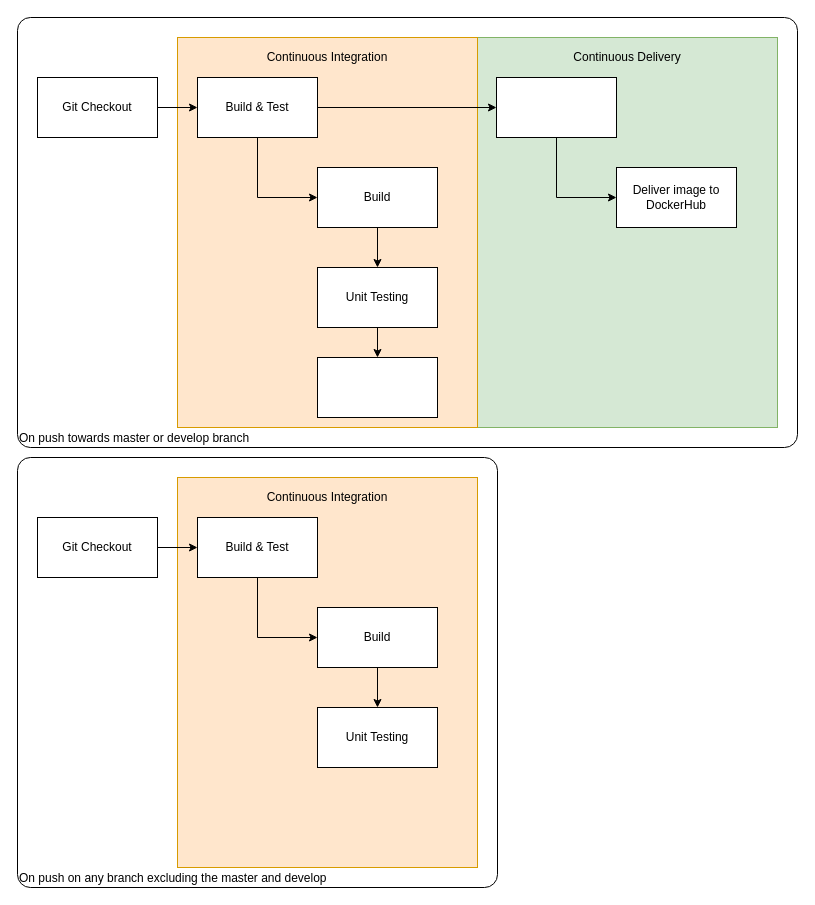
Some shapes in this 815 by 905 pixel diagram are drawn without their labels. Here are the shapes that lost their labels. From the top down, the centre of each, then its label:
pixel 556 107: Delivery
pixel 377 387: Build release artifact
